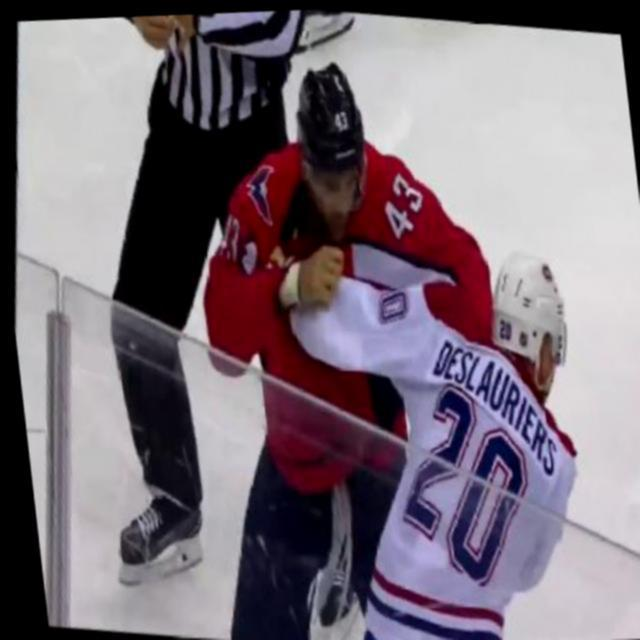fight: (138, 24, 634, 640)
